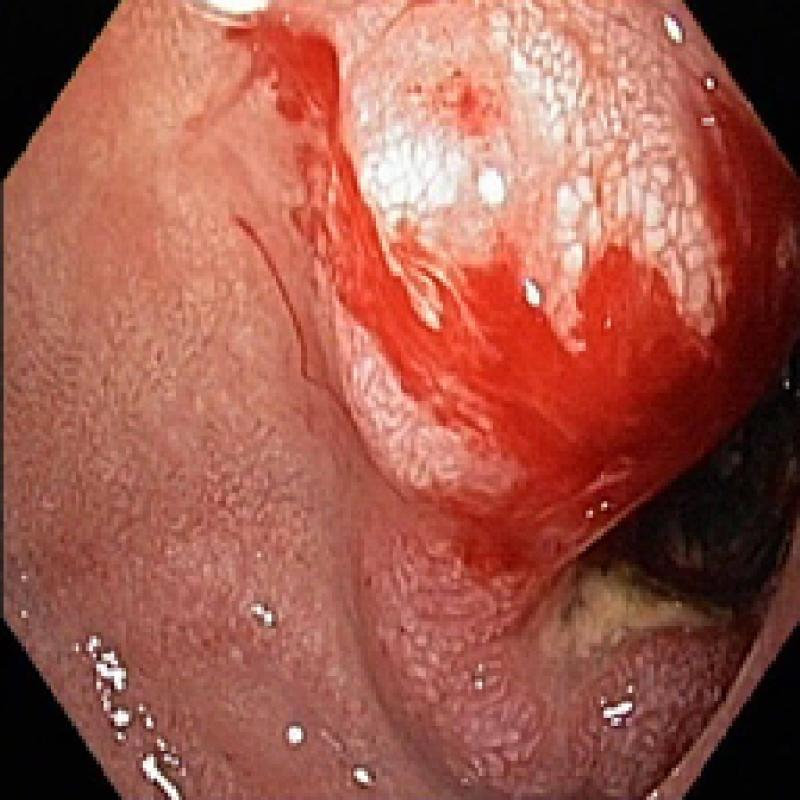bleeding: (228, 17, 800, 571)
